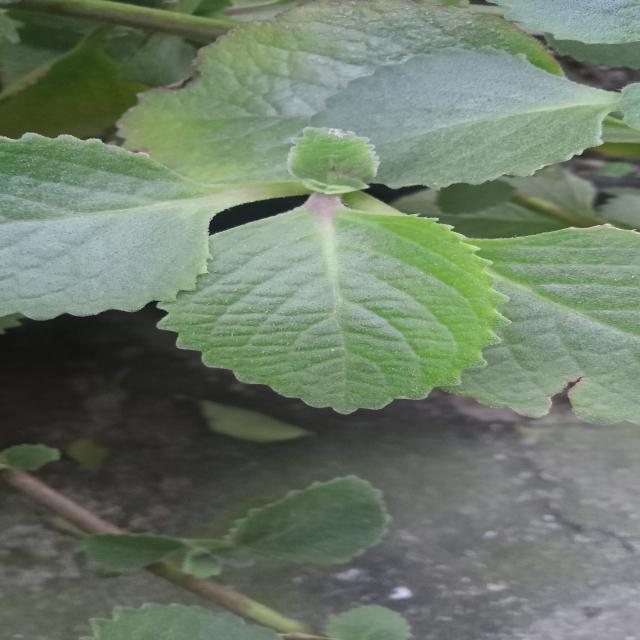Oregano: (148, 196, 530, 424)
